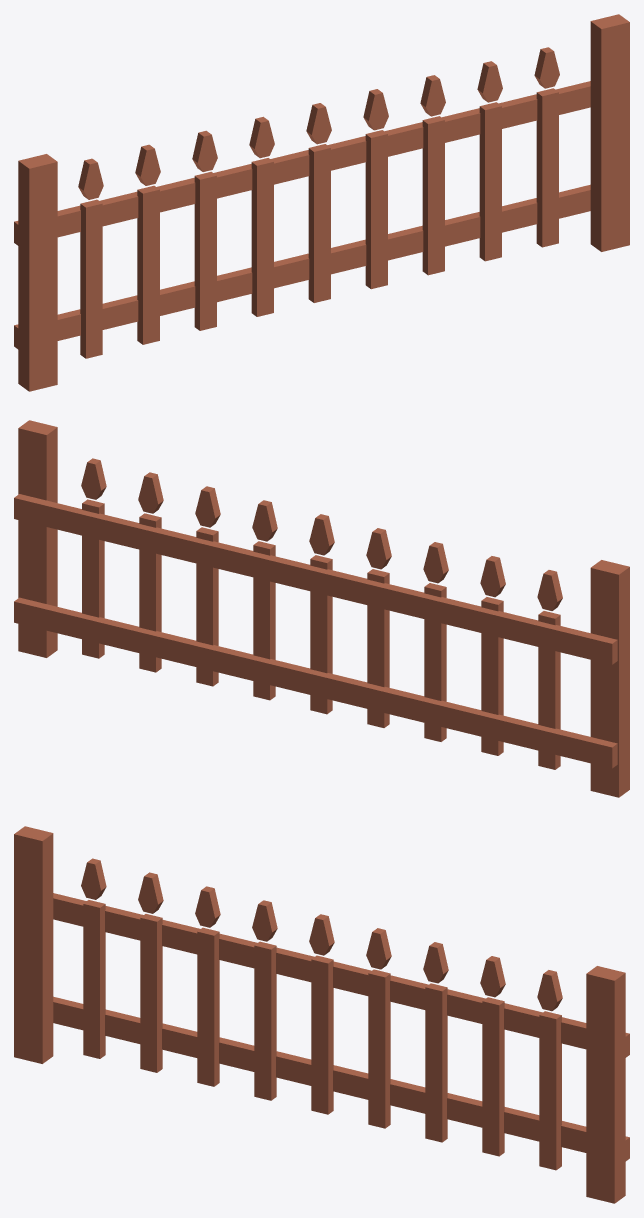
Rendered from fence_1.fbx.
The picture shows the model from 3 angles, top to bottom: view 1: azimuth 30°, elevation 25°; view 2: azimuth 150°, elevation 25°; view 3: azimuth 330°, elevation 25°; orthographic projection.
Parts seen in each view (by area): view 1: Plane.001, Plane, Plane.003, Plane.004, Plane.002; view 2: Plane.001, Plane.004, Plane.003, Plane, Plane.002; view 3: Plane.001, Plane, Plane.003, Plane.004, Plane.002.
Boxes of the visible parts, x1,y1,x2,y2 form: Plane.001: (80, 88, 558, 358); Plane: (18, 14, 629, 391); Plane.003: (14, 81, 590, 245); Plane.004: (14, 184, 590, 349); Plane.002: (78, 47, 559, 199); Plane.001: (82, 499, 560, 769); Plane.004: (14, 597, 617, 768); Plane.003: (14, 494, 617, 664); Plane: (18, 420, 629, 797); Plane.002: (81, 458, 562, 610); Plane.001: (83, 900, 561, 1170); Plane: (14, 826, 625, 1203); Plane.003: (53, 893, 629, 1057); Plane.004: (53, 996, 629, 1161); Plane.002: (81, 858, 562, 1011).
Bounding box in the file's own units: 316 × 112 × 15.07.
